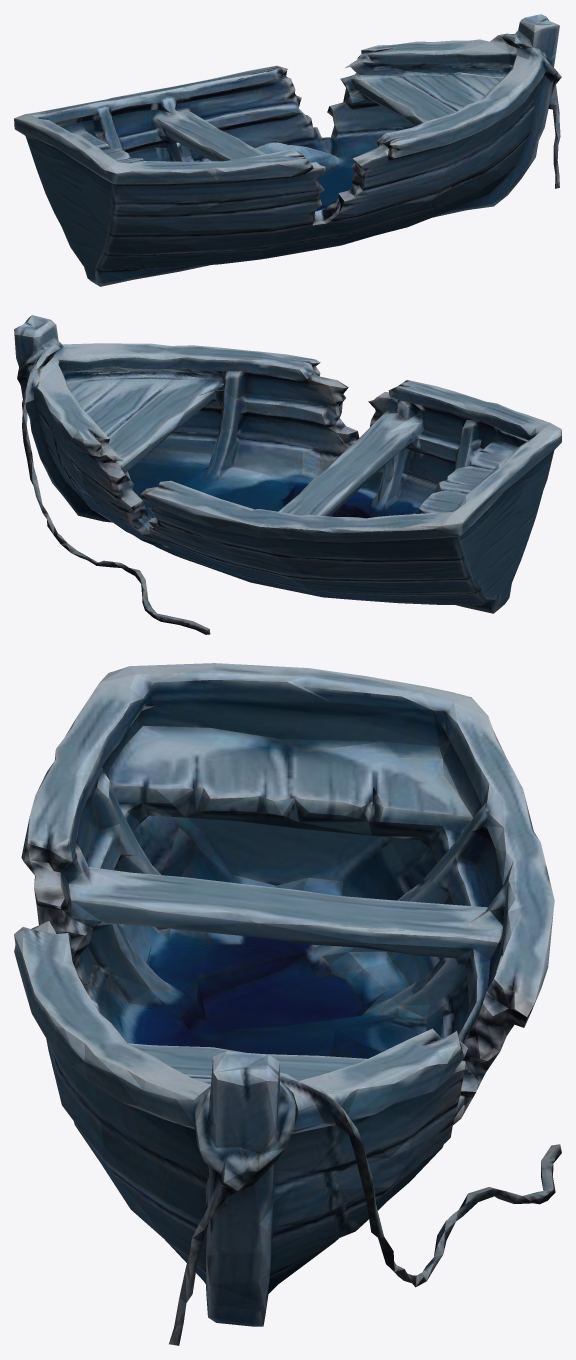
File: wrecked_skiff.glb
3 renders of one model, top to bottom at view 1: azimuth 30°, elevation 25°; view 2: azimuth 150°, elevation 25°; view 3: azimuth 270°, elevation 25°, orthographic. The views are drawn at different scales.
Parts seen in each view (by area): view 1: tripo_node_27ca8316-877a-43b5-99b1-0d578553888b.001; view 2: tripo_node_27ca8316-877a-43b5-99b1-0d578553888b.001; view 3: tripo_node_27ca8316-877a-43b5-99b1-0d578553888b.001.
Boxes of the visible parts, x1,y1,x2,y2 form: tripo_node_27ca8316-877a-43b5-99b1-0d578553888b.001: [14, 14, 561, 286]; tripo_node_27ca8316-877a-43b5-99b1-0d578553888b.001: [14, 315, 561, 634]; tripo_node_27ca8316-877a-43b5-99b1-0d578553888b.001: [14, 663, 561, 1345].
Bounding box in the file's own units: 0.997 × 0.3382 × 0.5289.
Materials: 1 (1 with a texture image).
